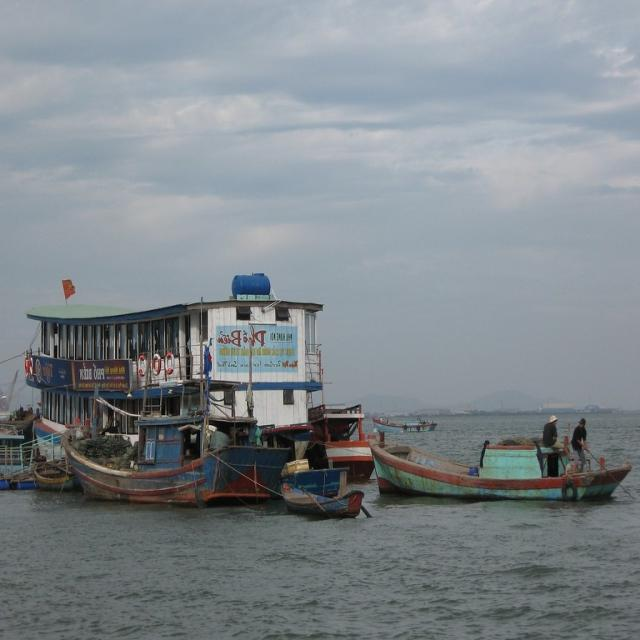boat: (58, 408, 274, 510), (369, 442, 626, 509), (275, 483, 370, 522), (274, 458, 344, 496)
